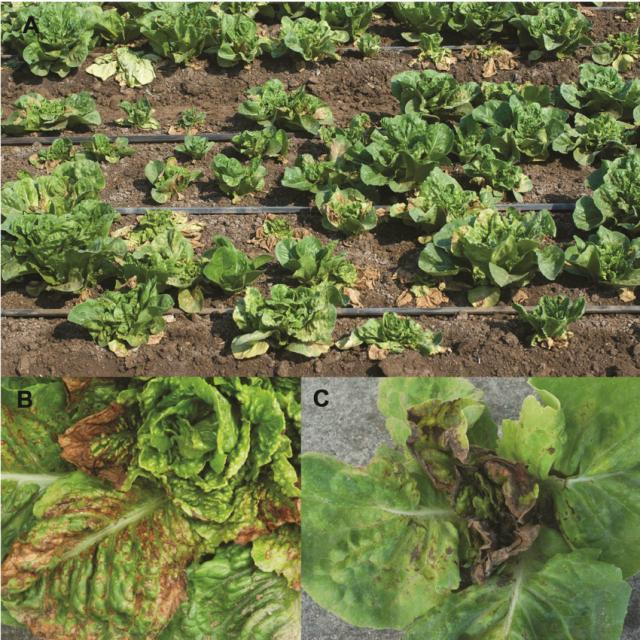Lettuce: (307, 377, 632, 637), (0, 377, 297, 640), (2, 202, 120, 291), (233, 282, 336, 361), (75, 279, 175, 353), (445, 208, 542, 282), (573, 153, 640, 236), (237, 78, 333, 135), (566, 55, 640, 124), (4, 88, 105, 138), (564, 230, 640, 290), (563, 110, 636, 168), (317, 186, 377, 235), (146, 156, 198, 203), (210, 151, 263, 195), (227, 124, 286, 162), (116, 98, 165, 128), (180, 132, 210, 159), (182, 106, 208, 125)
